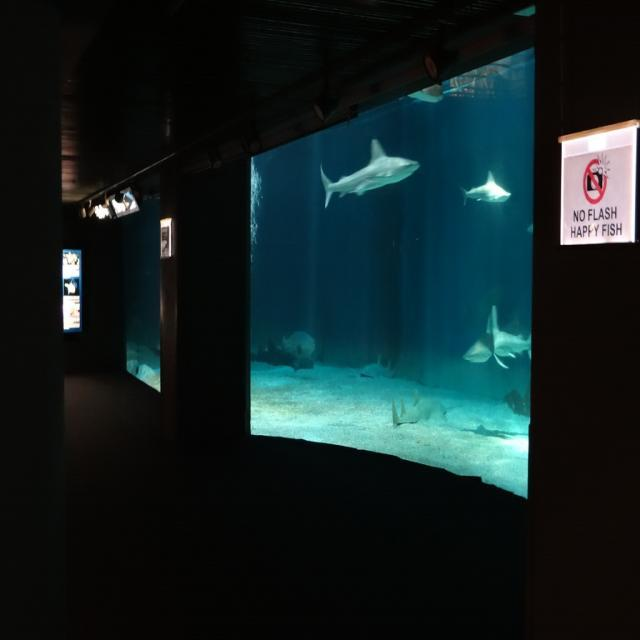Shark: (322, 138, 423, 210), (466, 306, 530, 370), (461, 172, 512, 202)
